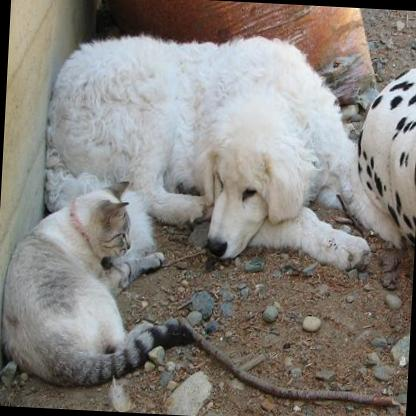kuvasz: (20, 30, 384, 278)
